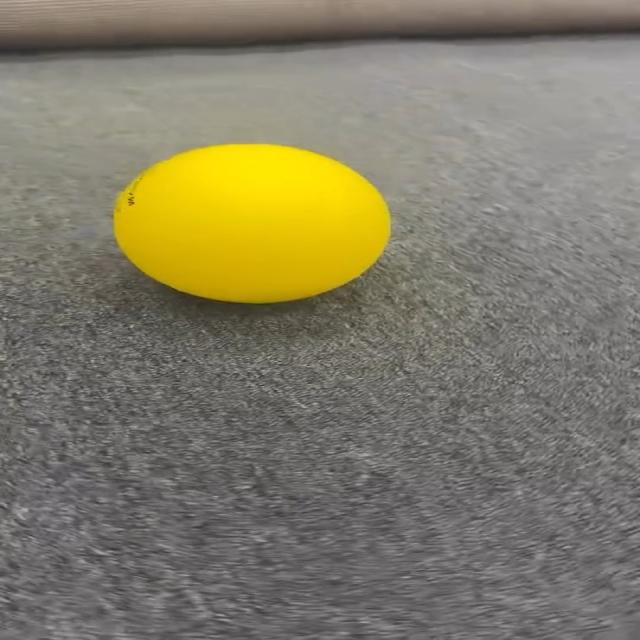Fuels: (115, 144, 388, 301)
